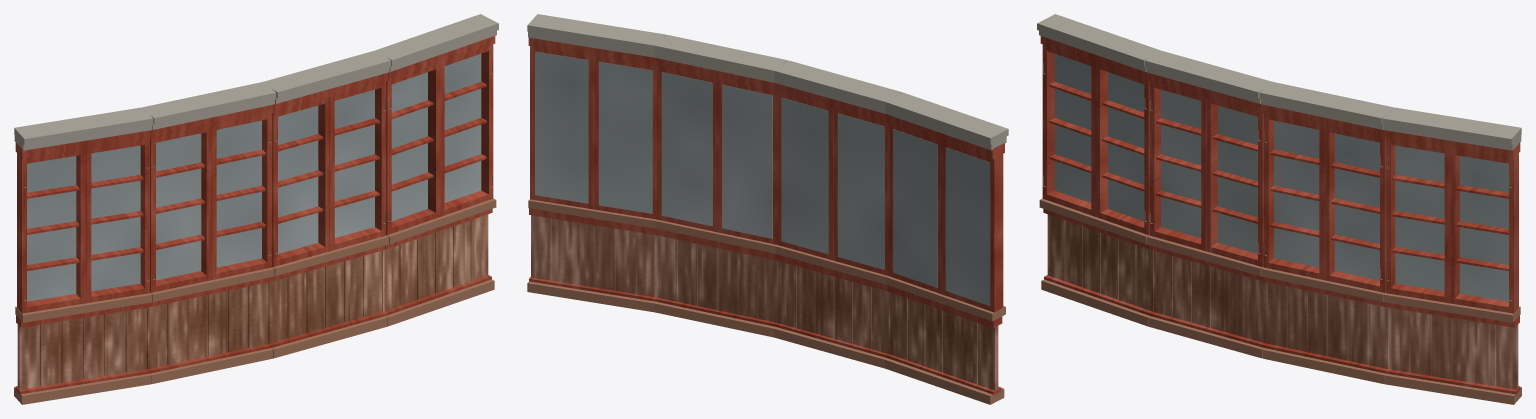
File: zhang-xiaoyi-red-eight-light-bay-far.glb
3 renders of one model, left to right at view 1: azimuth 30°, elevation 25°; view 2: azimuth 150°, elevation 25°; view 3: azimuth 330°, elevation 25°, orthographic.
Parts seen in each view (by area): view 1: 张小乙宅临街浅凸窗的八扇红框四格窗; view 2: 张小乙宅临街浅凸窗的八扇红框四格窗; view 3: 张小乙宅临街浅凸窗的八扇红框四格窗.
Boxes of the visible parts, <box> form: 张小乙宅临街浅凸窗的八扇红框四格窗: <box>14,14,498,404</box>; 张小乙宅临街浅凸窗的八扇红框四格窗: <box>527,14,1008,404</box>; 张小乙宅临街浅凸窗的八扇红框四格窗: <box>1037,14,1521,404</box>.
Bounding box in the file's own units: 3.96 × 2.14 × 0.43.
6 materials, 3 textured.
